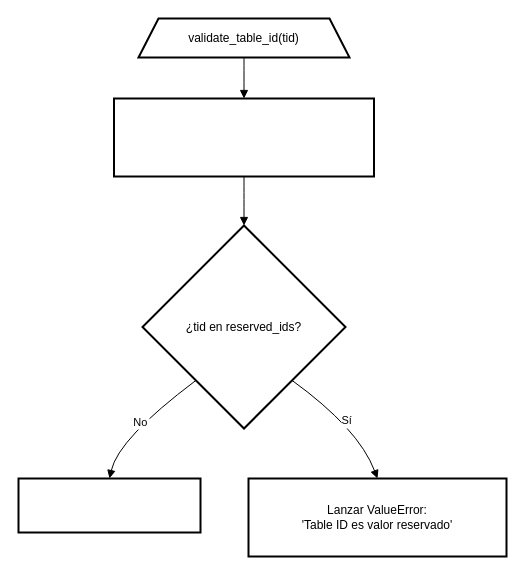
This 524x574 diagram has some shape labels left out. Each missing label, with the centre of its shape:
reserved_ids = {0, 253, 254, 255}: point 243,137
Retornar (válido): point 109,505
